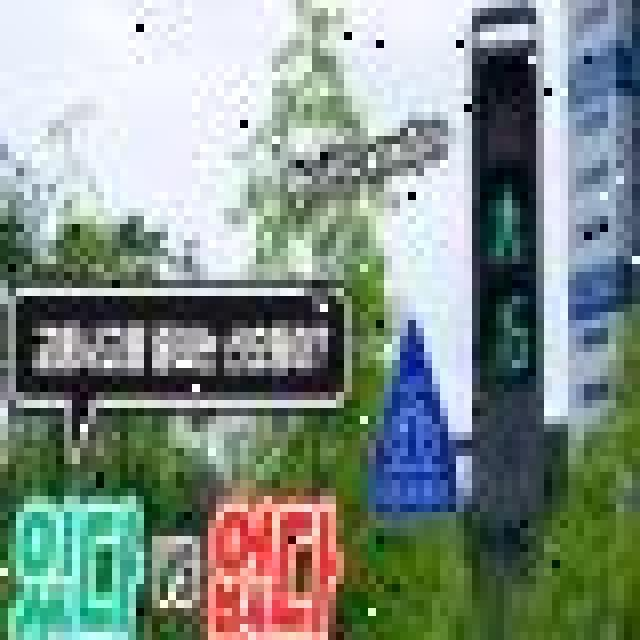greenlight: (448, 48, 544, 280)
